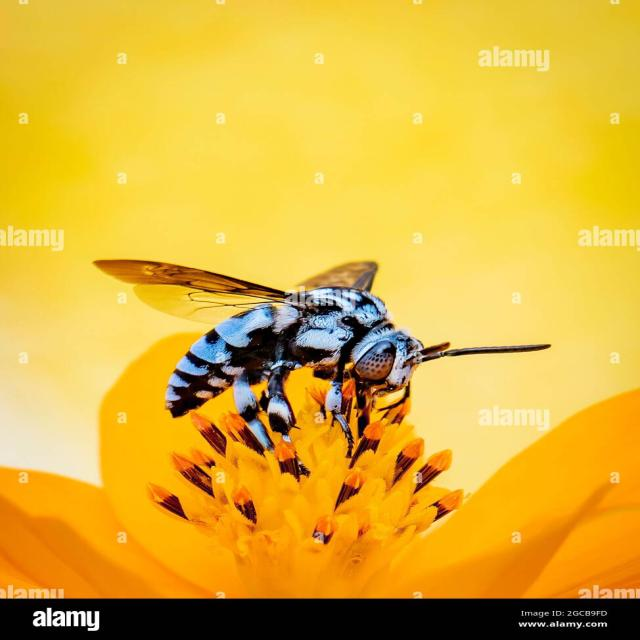Thyreus: (85, 250, 557, 464)
